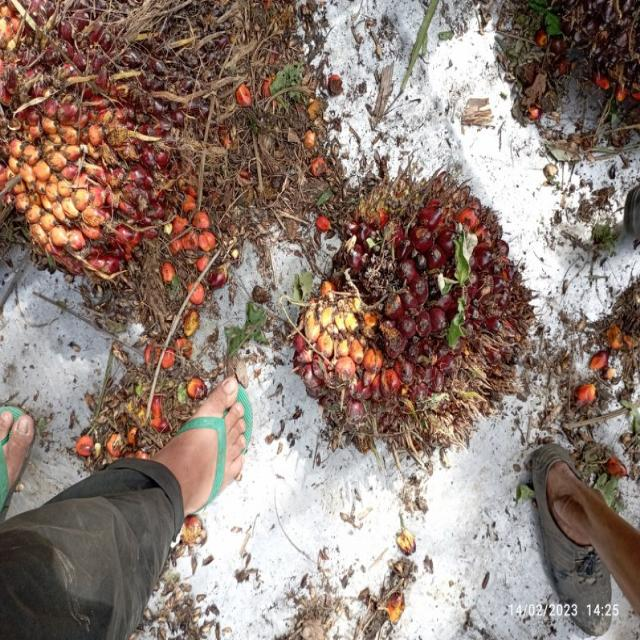fraksi 1: (289, 175, 532, 470), (2, 0, 235, 299)
